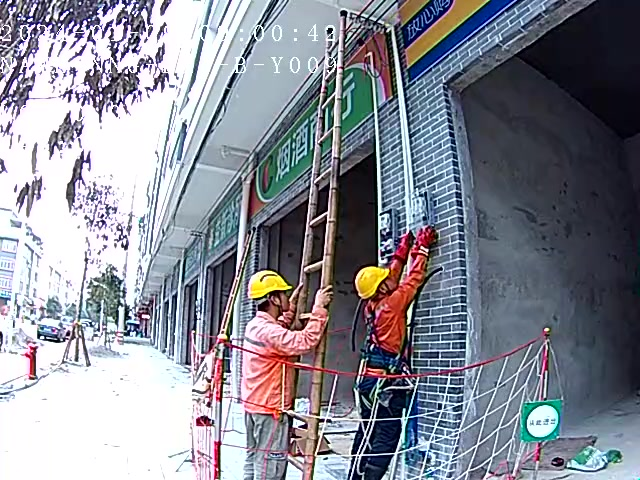downcloth: (243, 411, 291, 480)
downsuit: (347, 371, 412, 480)
halt: (249, 269, 293, 314), (356, 266, 396, 300)
hand: (313, 286, 333, 311), (288, 284, 308, 307)
inear: (265, 293, 285, 317), (378, 282, 391, 300)
intosign: (517, 392, 564, 446)
longglove: (389, 226, 439, 267)
person: (345, 225, 456, 480), (239, 269, 334, 480)
safebelt: (349, 302, 409, 412)
support: (240, 263, 337, 480)
yupsuit: (241, 307, 329, 417), (362, 255, 430, 356)
